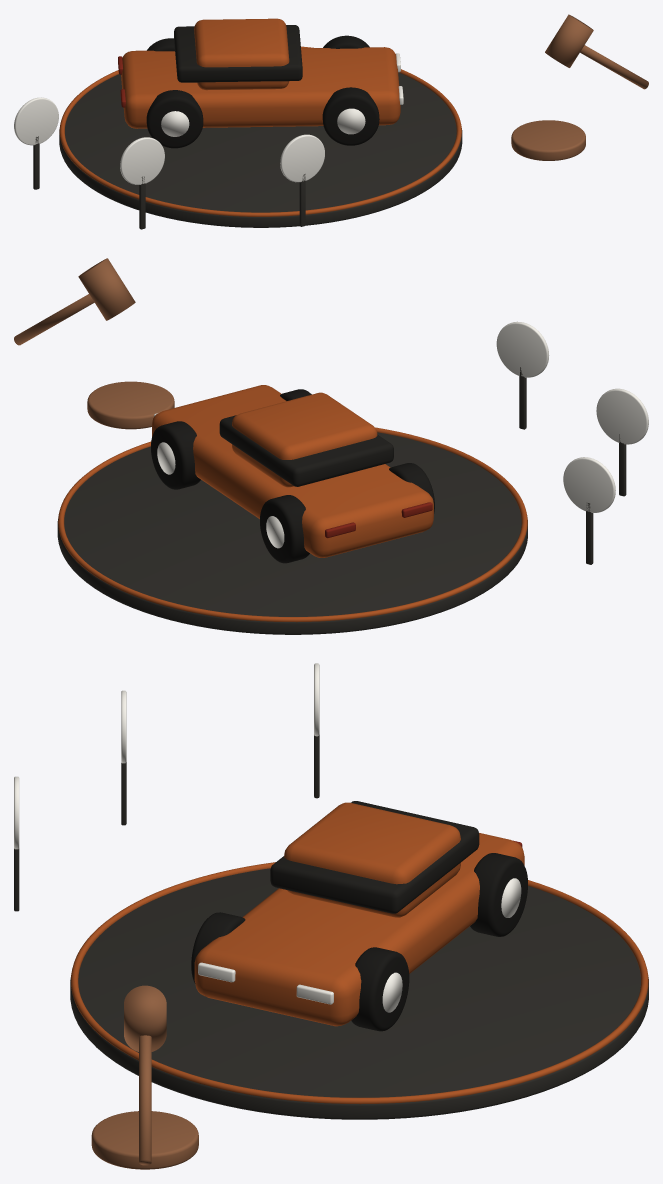
The model's file is auction.glb.
3 views of the same model, one above another, from view 1: azimuth 30°, elevation 25°; view 2: azimuth 150°, elevation 25°; view 3: azimuth 270°, elevation 25° (orthographic). The views are drawn at different scales.
Visible parts, largest first — view 1: Turntable, Car, Ring, Block, Gavel, Paddle0, Paddle2, Paddle1; view 2: Turntable, Car, Ring, Block, Gavel, Paddle1, Paddle2, Paddle0; view 3: Turntable, Car, Ring, Block, Gavel, Paddle1, Paddle2, Paddle0.
Boxes of the visible parts, bbox=[...] form: Turntable: bbox=[59, 72, 462, 227]; Car: bbox=[118, 18, 403, 148]; Ring: bbox=[59, 46, 461, 216]; Block: bbox=[511, 120, 585, 160]; Gavel: bbox=[545, 14, 648, 89]; Paddle0: bbox=[14, 97, 58, 189]; Paddle2: bbox=[280, 134, 324, 226]; Paddle1: bbox=[120, 137, 164, 229]; Turntable: bbox=[57, 432, 527, 634]; Car: bbox=[151, 385, 434, 563]; Ring: bbox=[58, 427, 527, 622]; Block: bbox=[87, 381, 174, 429]; Gavel: bbox=[14, 258, 135, 345]; Paddle1: bbox=[596, 388, 648, 496]; Paddle2: bbox=[496, 321, 549, 429]; Paddle0: bbox=[563, 457, 615, 564]; Turntable: bbox=[70, 868, 648, 1119]; Car: bbox=[191, 801, 527, 1031]; Ring: bbox=[70, 862, 648, 1104]; Block: bbox=[91, 1111, 198, 1169]; Gavel: bbox=[124, 985, 166, 1165]; Paddle1: bbox=[121, 690, 126, 825]; Paddle2: bbox=[14, 776, 19, 911]; Paddle0: bbox=[314, 663, 319, 798].
Size of the model in its own units: 8.88 by 1.83 by 5.92.
